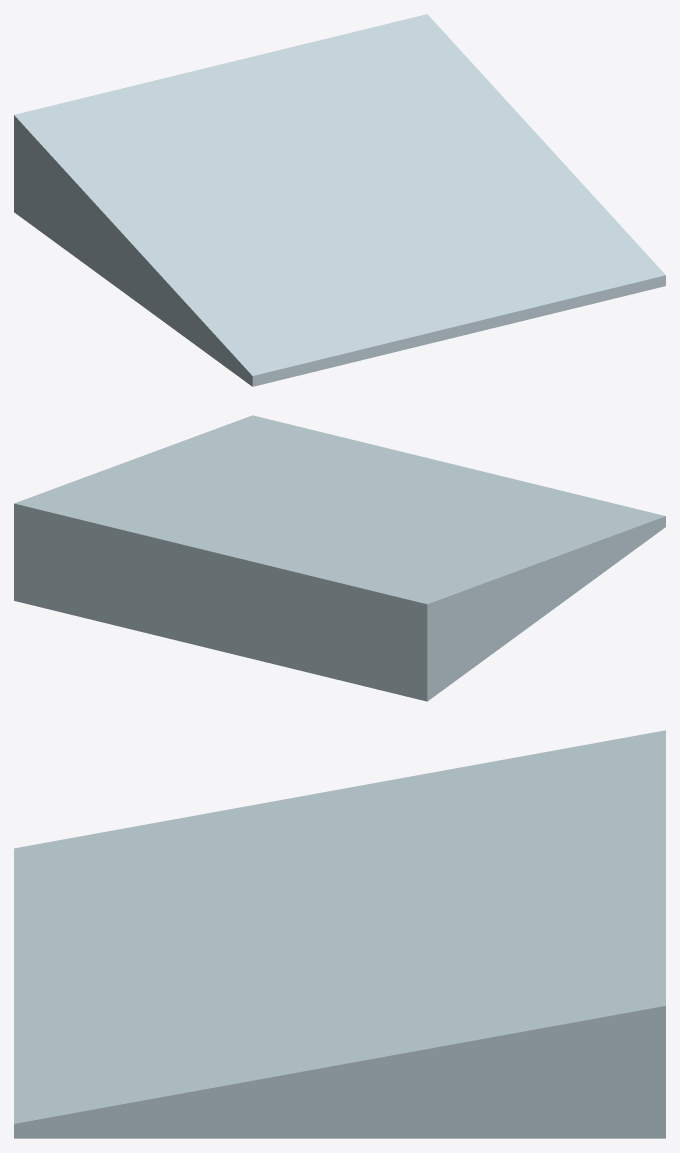
The model's file is roadSlope.glb.
3 renders of one model, top to bottom at view 1: azimuth 30°, elevation 25°; view 2: azimuth 150°, elevation 25°; view 3: azimuth 270°, elevation 25°, orthographic. The views are drawn at different scales.
Visible parts, largest first — view 1: roadSlope; view 2: roadSlope; view 3: roadSlope.
Part boxes in pixels (left/top/right/bottom): roadSlope: left=14, top=14, right=665, bottom=386; roadSlope: left=14, top=415, right=665, bottom=701; roadSlope: left=14, top=730, right=665, bottom=1138.
Size of the model in its own units: 1 by 0.225 by 1.
